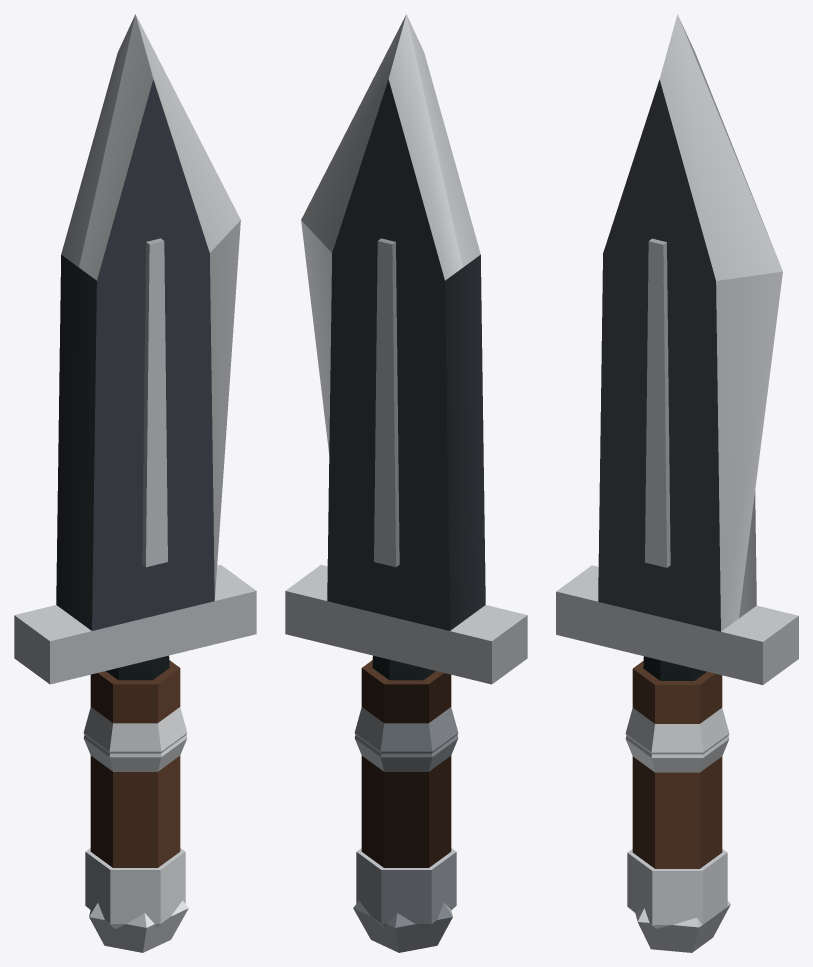
Rendered from ranger_knives_2.gltf.
3 views of the same model, side by side, from view 1: azimuth 30°, elevation 25°; view 2: azimuth 150°, elevation 25°; view 3: azimuth 330°, elevation 25° (orthographic).
Parts seen in each view (by area): view 1: ranger_knives_2; view 2: ranger_knives_2; view 3: ranger_knives_2.
Part boxes in pixels (box(x1,y1,x2,y2)): ranger_knives_2: box(14, 14, 256, 952); ranger_knives_2: box(285, 14, 527, 952); ranger_knives_2: box(556, 14, 798, 952).
Bounding box in the file's own units: 0.202 × 0.8648 × 0.087.
1 material, 1 textured.
